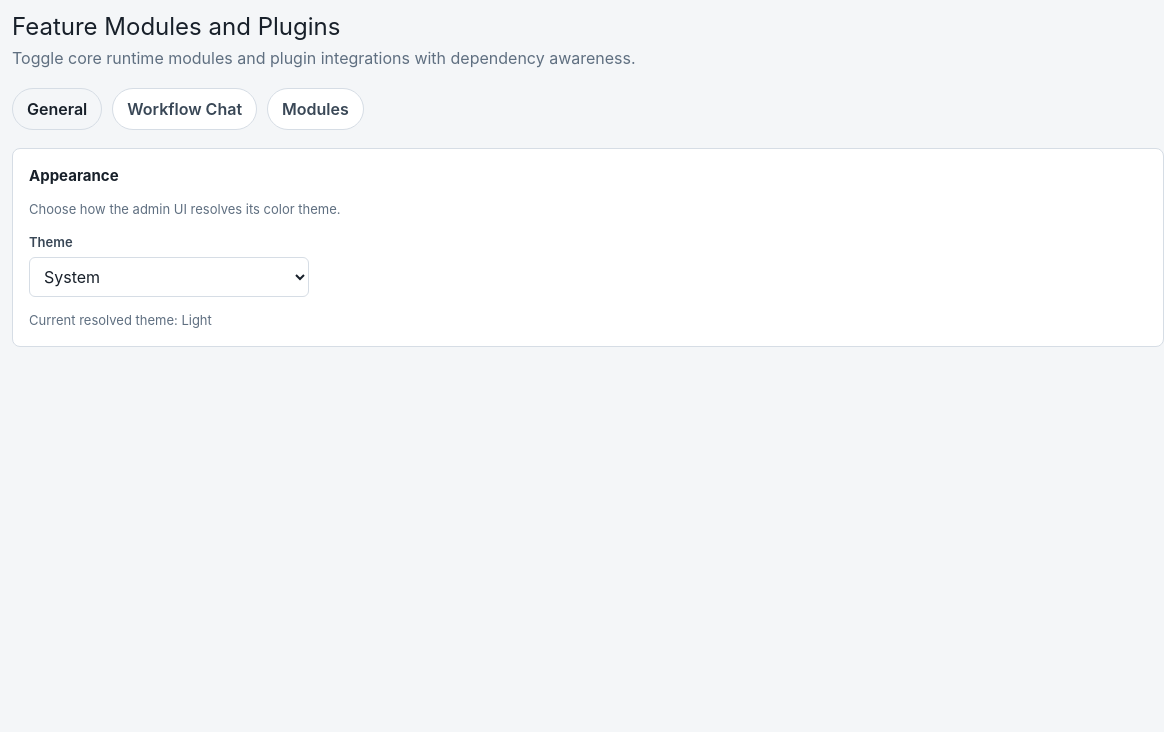
Test case: SettingsView › renders workflow chat assistant settings from config
Click the button with test id "settings-tab-workflow-chat". click: [185, 109]
box: [112,88,257,130]
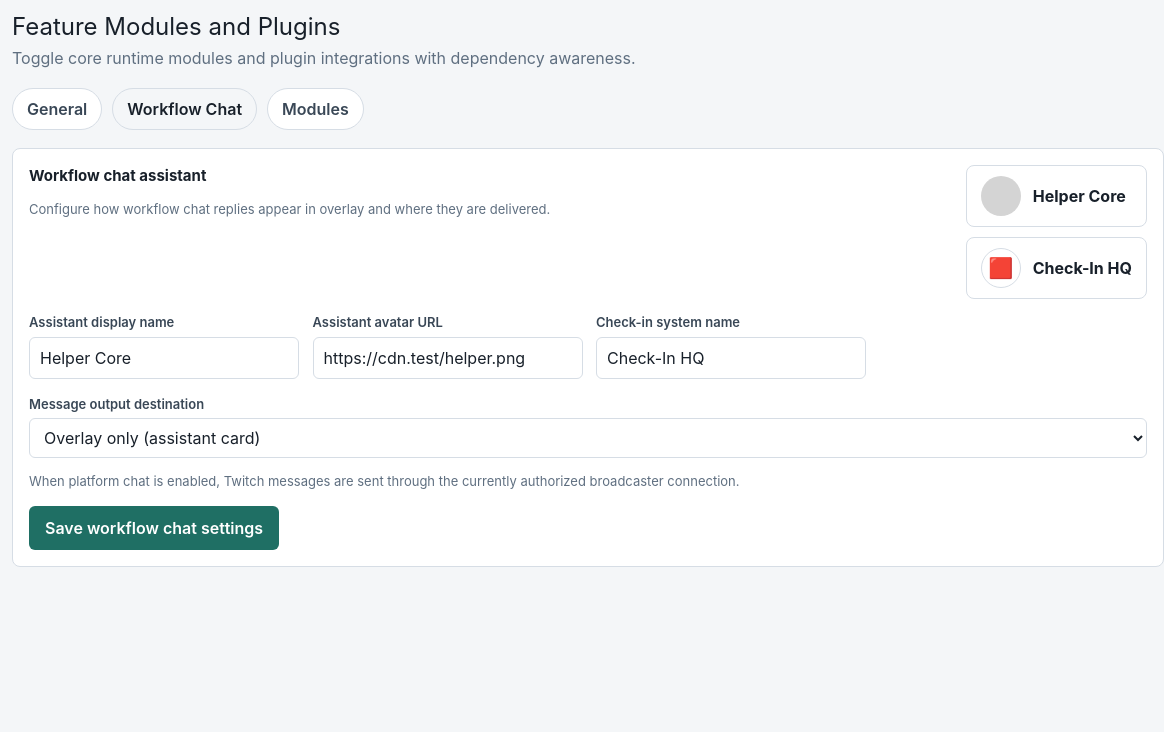
Result: the field with test id "workflow-chat-display-name" holds "Helper Core" at [29,336,299,378]
Result: the field with test id "workflow-chat-avatar-url" holds "https://cdn.test/helper.png" at [312,336,582,378]
Result: the field with test id "workflow-chat-checkin-display-name" holds "Check-In HQ" at [596,336,866,378]
